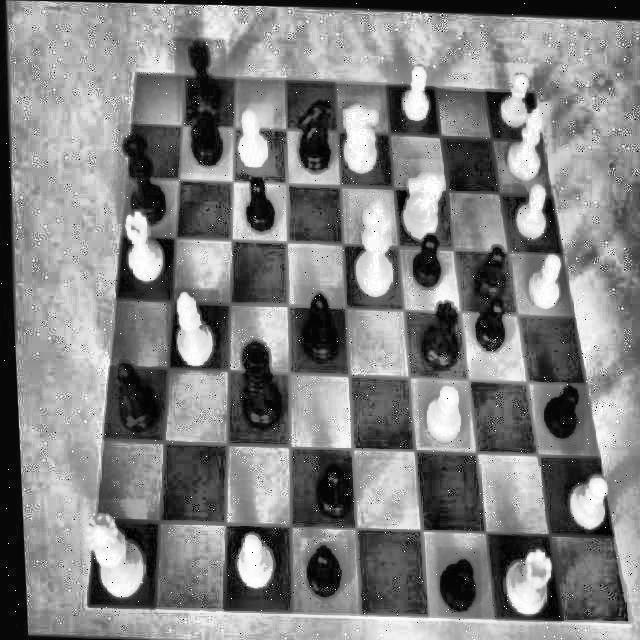black-bishop: (99, 356, 164, 436), (288, 283, 344, 374)
black-king: (228, 324, 288, 442)
black-knight: (286, 83, 338, 183), (176, 85, 230, 175)
black-pawn: (528, 377, 581, 450), (294, 534, 344, 611), (463, 235, 516, 306), (464, 289, 516, 359), (428, 546, 476, 617), (401, 224, 446, 297), (310, 453, 352, 523), (238, 174, 276, 244)
black-queen: (115, 123, 168, 231)
black-rook: (405, 288, 468, 380), (173, 37, 227, 122)
white-bishop: (162, 287, 219, 374), (499, 98, 553, 183)
white-king: (345, 190, 403, 304)
white-knight: (394, 158, 451, 248), (334, 93, 383, 181)
white-pawn: (220, 522, 279, 600), (411, 372, 467, 448), (559, 463, 609, 538), (506, 175, 556, 246), (490, 59, 534, 134), (522, 243, 569, 313), (392, 55, 436, 128), (232, 102, 274, 173)
white-queen: (76, 498, 146, 612)
white-rook: (492, 531, 554, 615), (115, 203, 171, 291)
